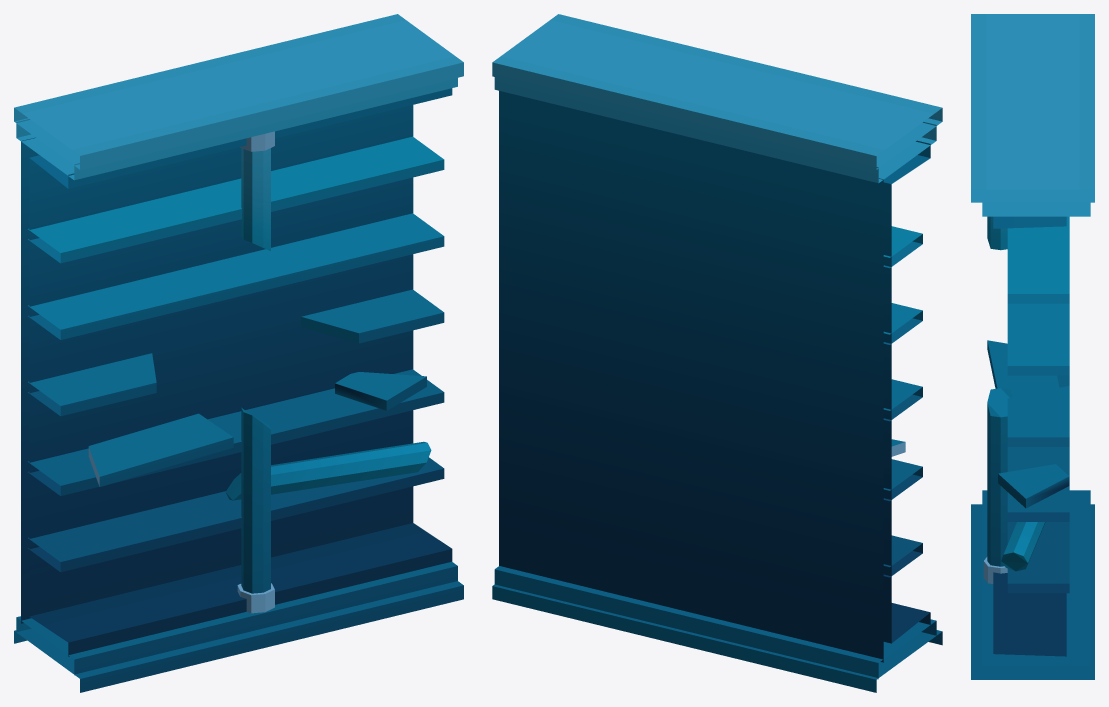
Rendered from Bookshelf 02 Center 02.fbx.
The picture shows the model from 3 angles, left to right: view 1: azimuth 30°, elevation 25°; view 2: azimuth 150°, elevation 25°; view 3: azimuth 270°, elevation 25°; orthographic projection. The views are drawn at different scales.
Visible parts, largest first — view 1: Bookshelf 02 Center 02.001; view 2: Bookshelf 02 Center 02.001; view 3: Bookshelf 02 Center 02.001.
Boxes of the visible parts, x1,y1,x2,y2 form: Bookshelf 02 Center 02.001: [14, 14, 463, 692]; Bookshelf 02 Center 02.001: [492, 14, 942, 692]; Bookshelf 02 Center 02.001: [971, 14, 1094, 679].
Size of the model in its own units: 200 by 267 by 59.62.
